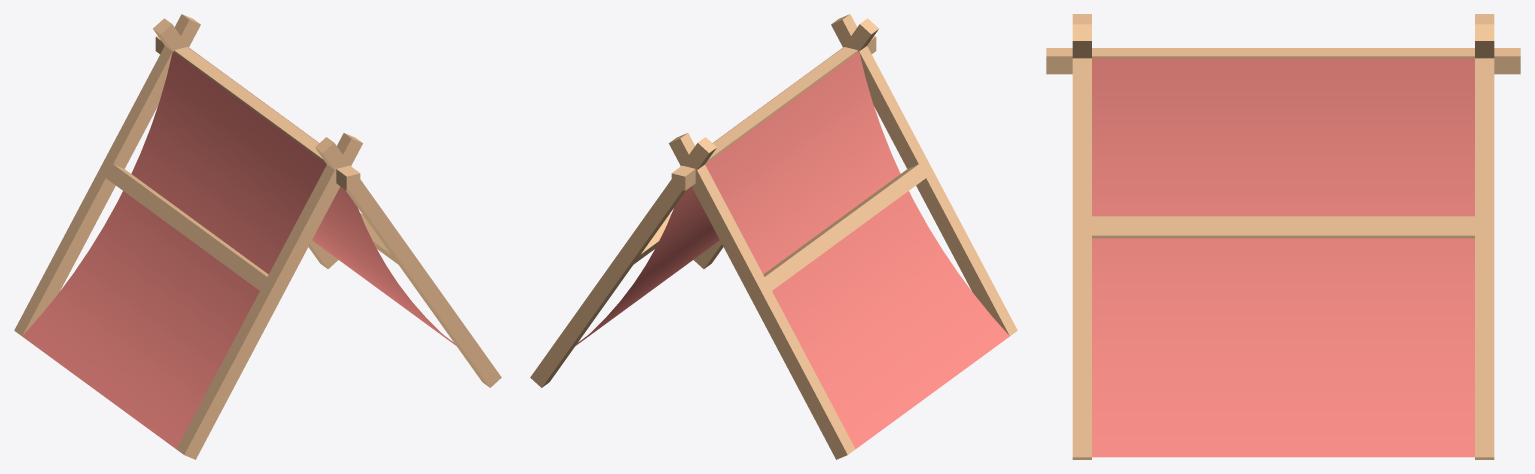
3 renders of one model, left to right at view 1: azimuth 30°, elevation 25°; view 2: azimuth 150°, elevation 25°; view 3: azimuth 270°, elevation 25°, orthographic. The views are drawn at different scales.
Parts seen in each view (by area): view 1: tentClosed; view 2: tentClosed; view 3: tentClosed.
Part boxes in pixels (x1,y1,x2,y2): tentClosed: (14,14,501,459); tentClosed: (530,14,1017,459); tentClosed: (1046,14,1520,459).
Size of the model in its own units: 0.5392 by 0.4598 by 0.5623.
